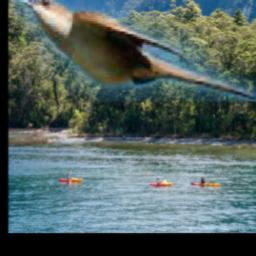Cuckoo: (14, 0, 256, 103)
